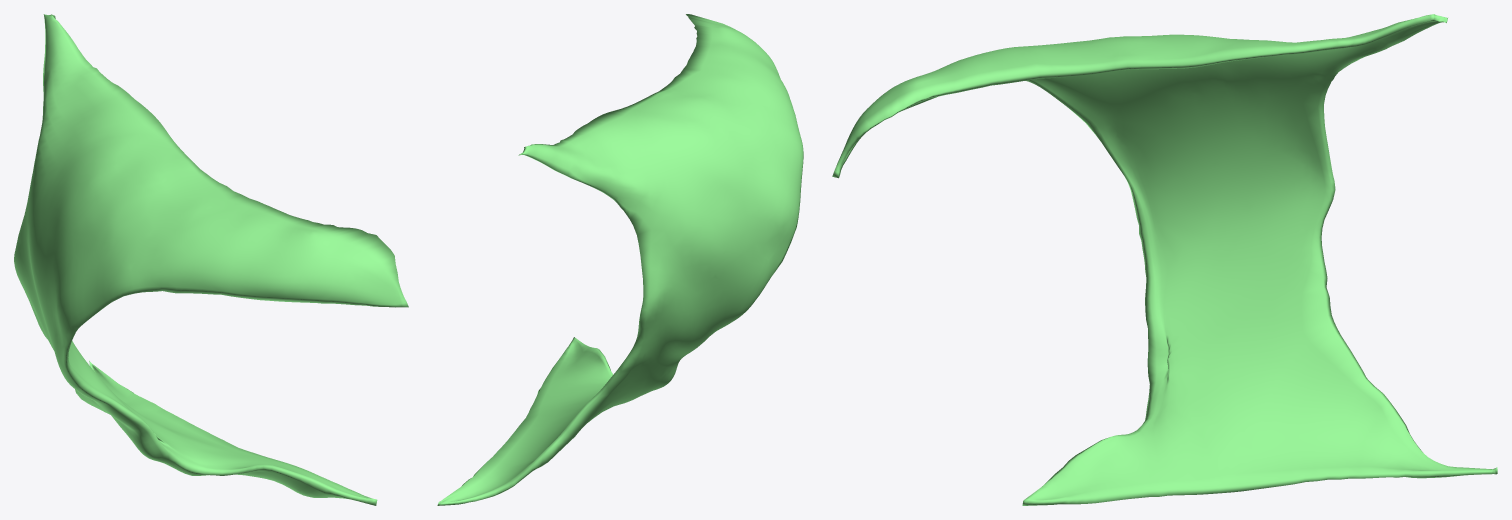
The model's file is Internal_Obliques_Muscle_Right.fbx.
3 views of the same model, side by side, from view 1: azimuth 30°, elevation 25°; view 2: azimuth 150°, elevation 25°; view 3: azimuth 270°, elevation 25° (orthographic). The views are drawn at different scales.
Parts seen in each view (by area): view 1: Internal_Obliques_Muscle_Right; view 2: Internal_Obliques_Muscle_Right; view 3: Internal_Obliques_Muscle_Right.
Part boxes in pixels (box(x1,y1,x2,y2)): Internal_Obliques_Muscle_Right: box(14, 14, 408, 505); Internal_Obliques_Muscle_Right: box(437, 14, 803, 505); Internal_Obliques_Muscle_Right: box(832, 14, 1497, 505).
Bounding box in the file's own units: 143 × 197 × 274.
